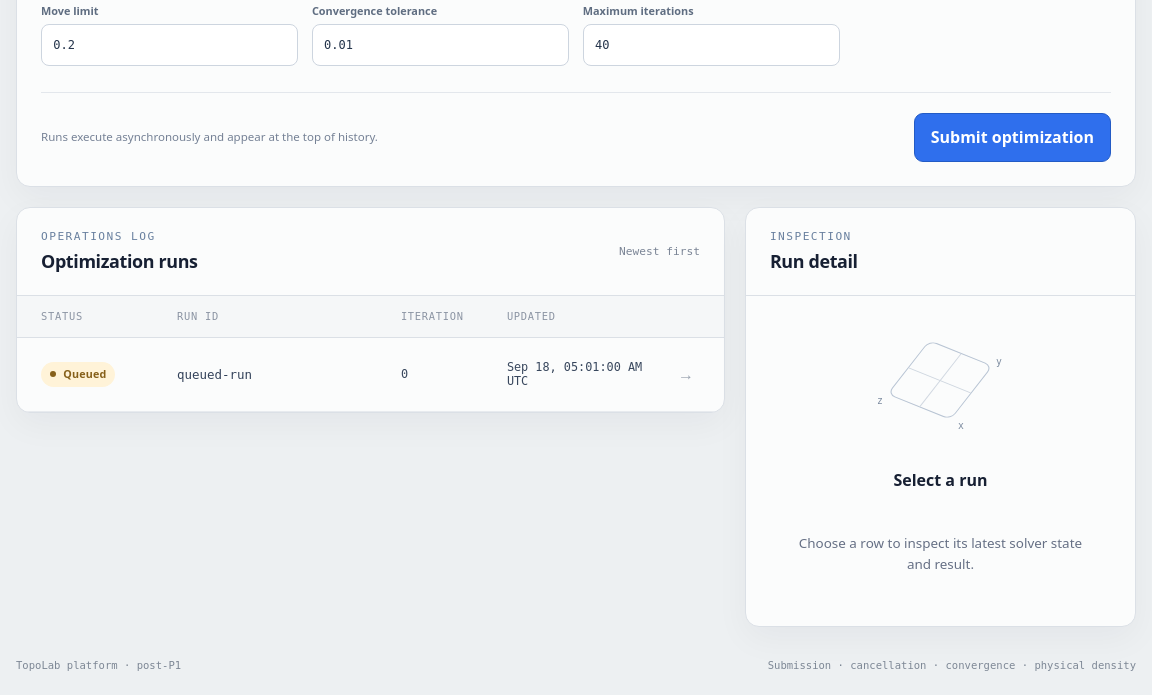
App › cancels a queued run and renders the returned terminal state
This screenshot has width=1152, height=695.
(page scrolled)
Click the button with aria-label "Open run queued-run": (78, 374) top-left (17, 338), bottom-right (724, 412)
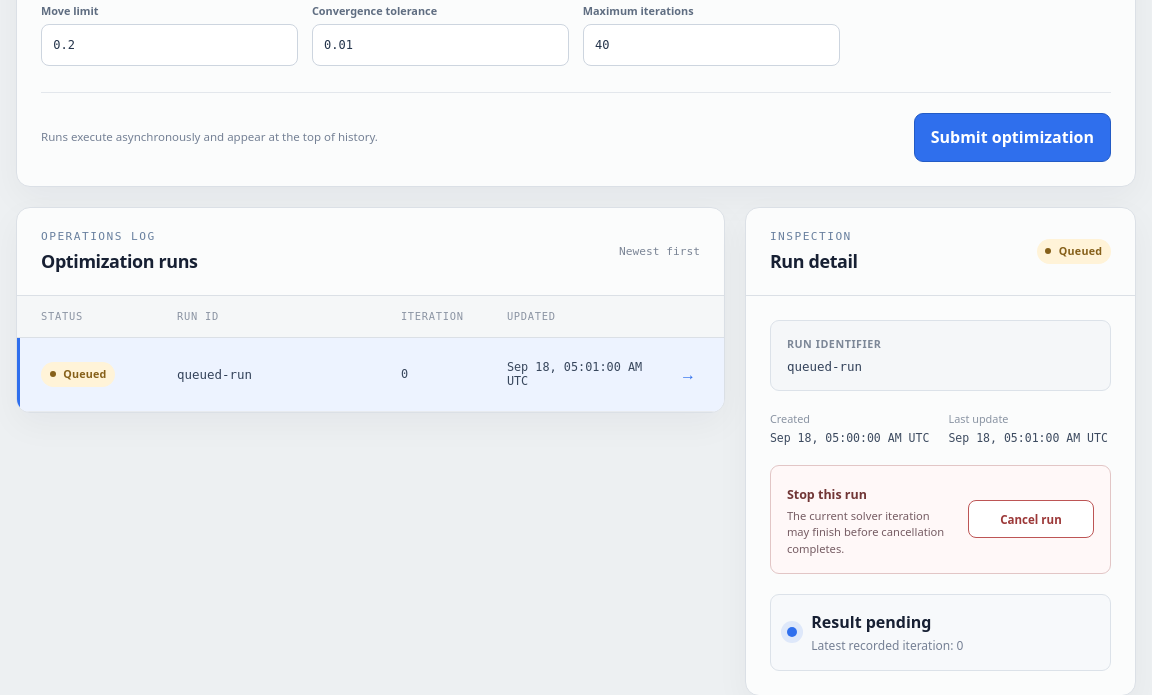
Click the button "Cancel run": (1031, 519) top-left (968, 500), bottom-right (1094, 538)
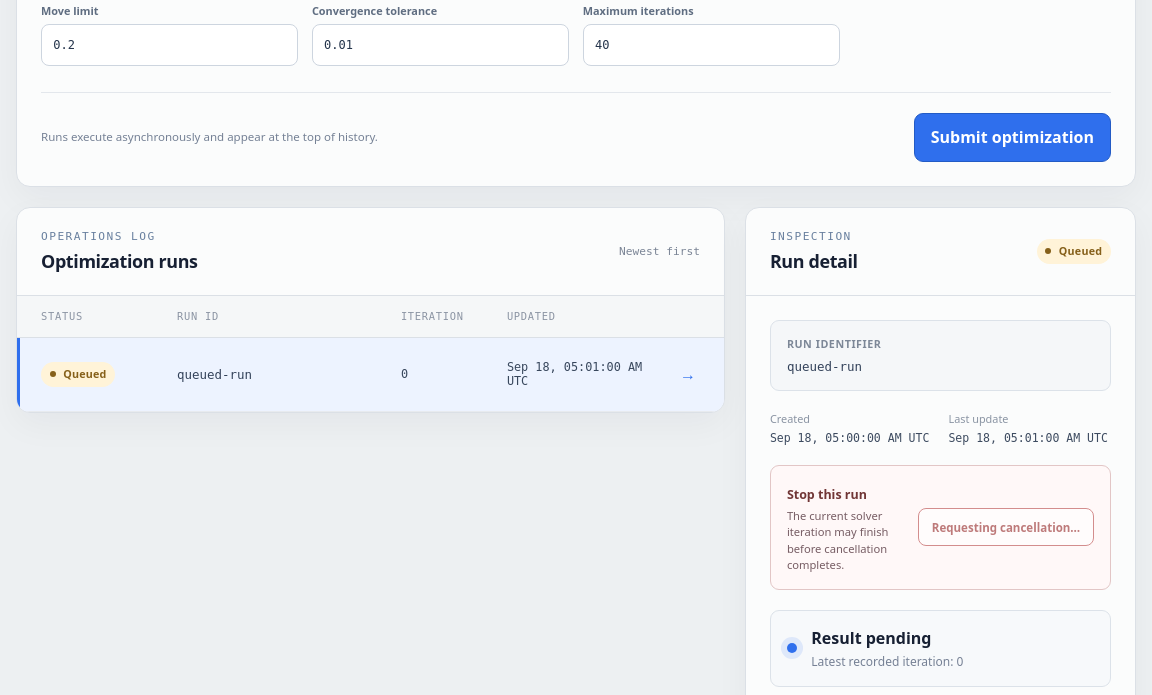
Expected: the button "Requesting cancellation…" is disabled
Click the button "Requesting cancellation…": (1006, 527) top-left (918, 508), bottom-right (1094, 546)
(page scrolled)
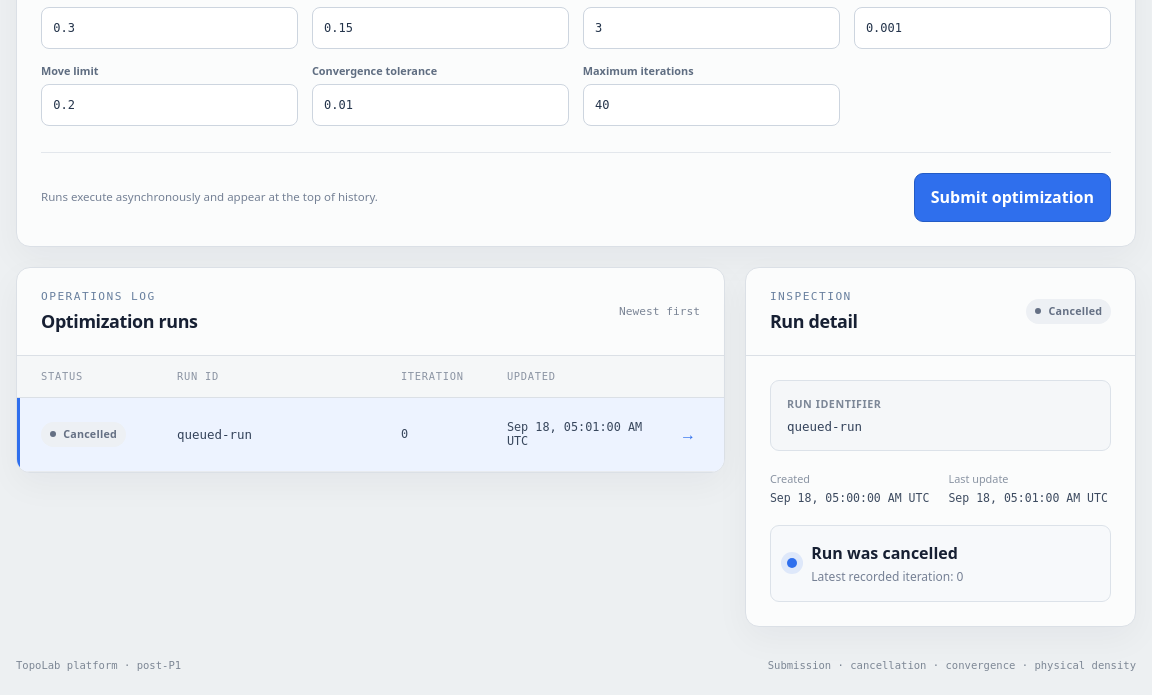
Expected: the button "Cancel run" is not shown
Expected: the text "Run was cancelled" is shown, top-left (811, 542), bottom-right (958, 564)
